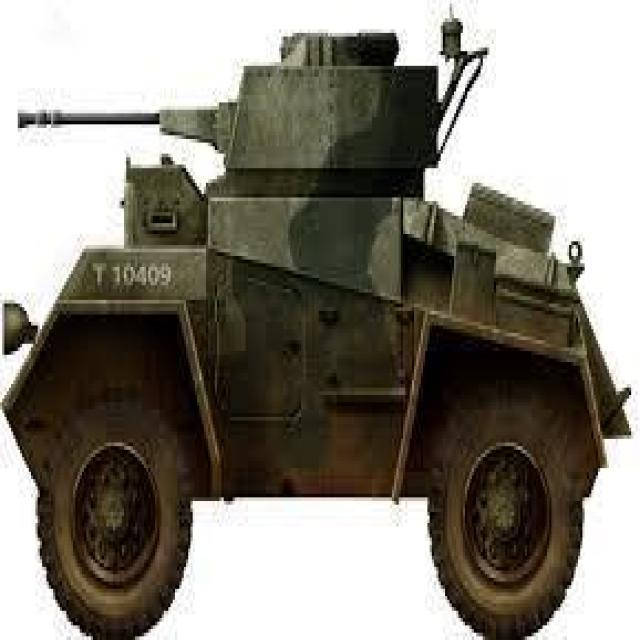Tanks: (6, 16, 570, 624)
